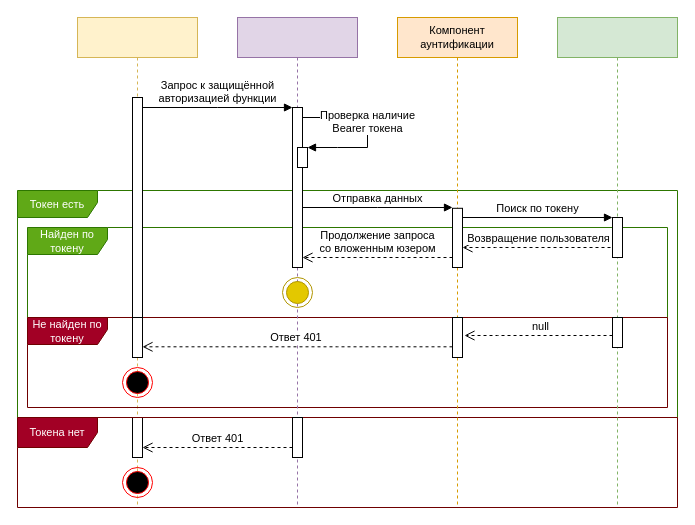
This 695x525 diagram has some shape labels left out. The box of each missing label's shape, as (x1, y1, x2, y2) in pixels:
База данных: (556, 16, 678, 508)
Пользователь: (76, 16, 198, 508)
Система: (236, 16, 358, 508)
